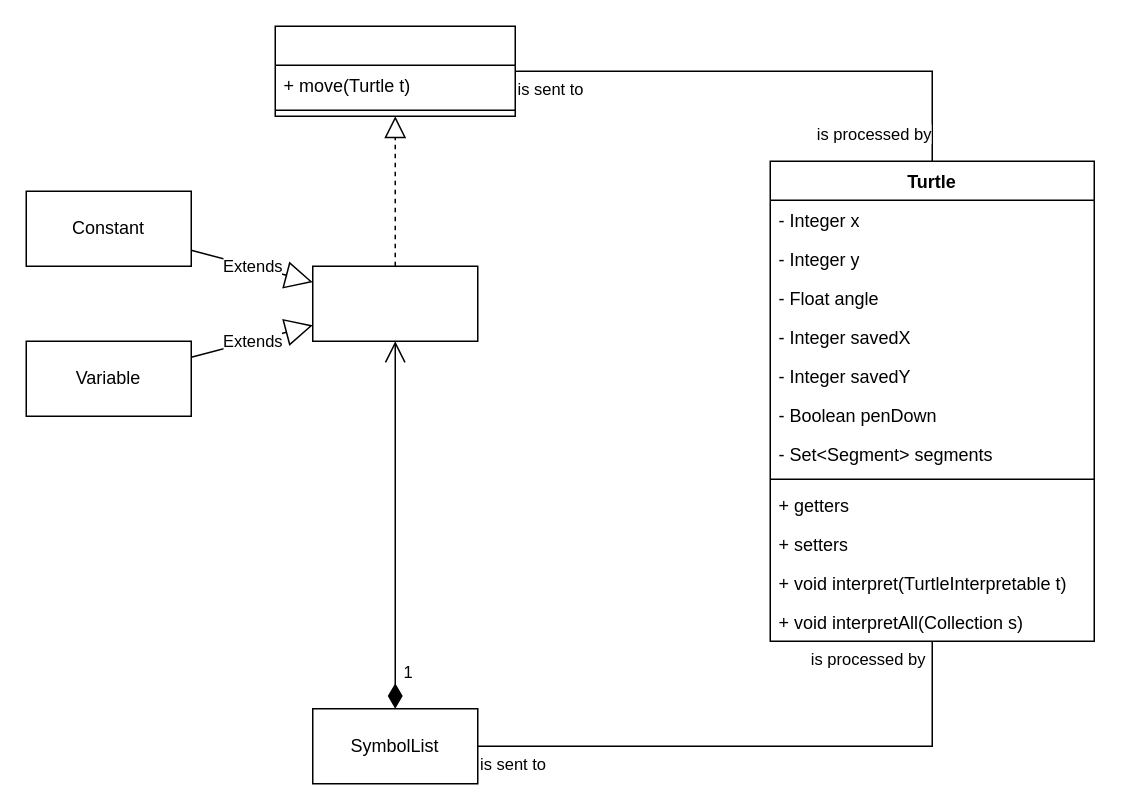
Some shapes in this 1121 by 810 pixel diagram are drawn without their labels. Each missing label, with the box of its shape:
GenericSymbol: (311, 265, 478, 341)
TurtleInterpretable: (274, 25, 515, 116)
